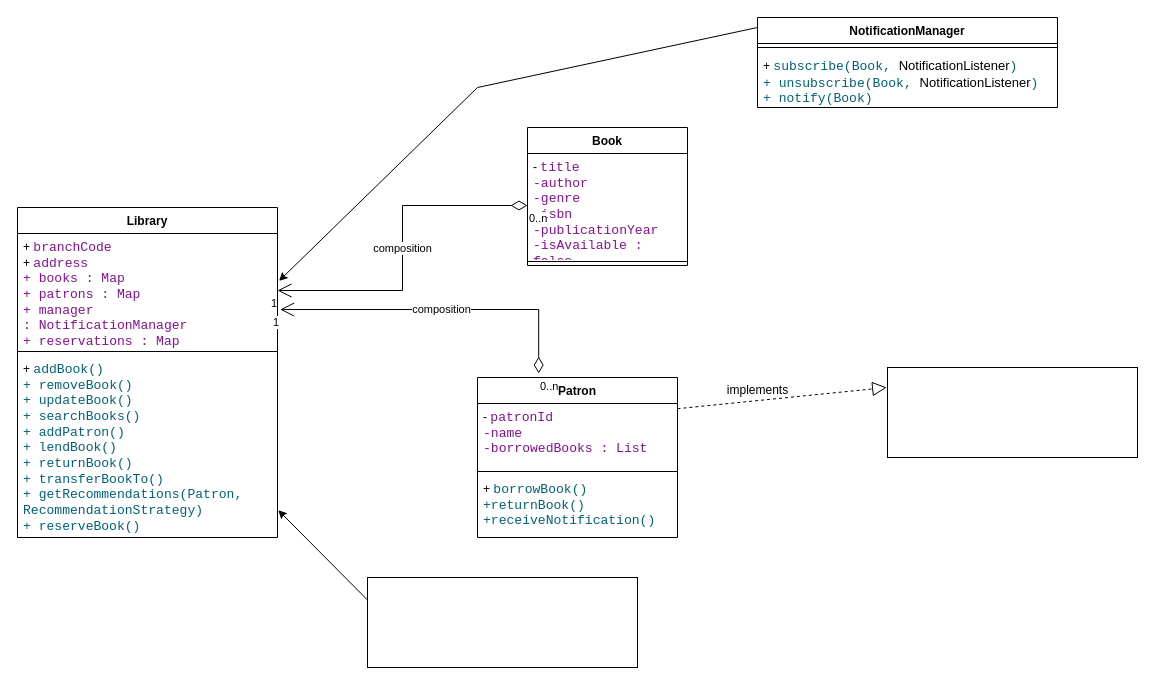
This 1155x685 diagram has some shape labels left out. Each missing label, with the centre of its shape:
<<Interface>> NotificationListener + receiveNotification (Book, message): (x=1012, y=412)
<<Interface>> RecommendationStrategy + getRecommendations (Patron): List<Book>: (x=502, y=622)
